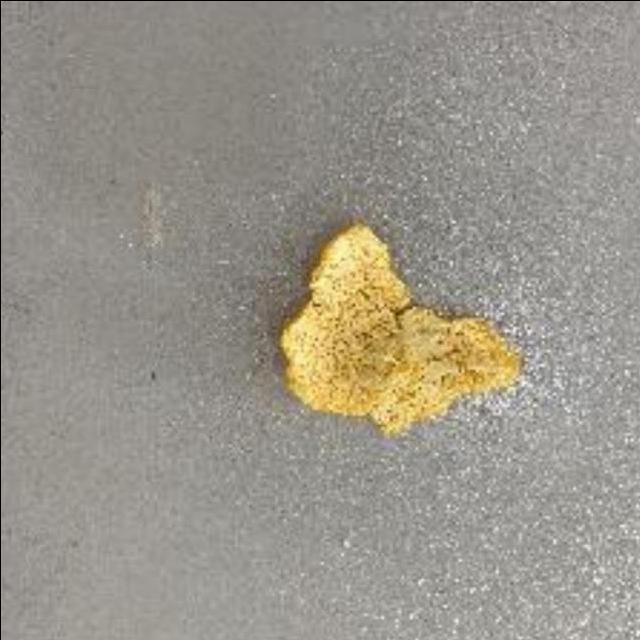orange peel: (270, 212, 528, 433)
